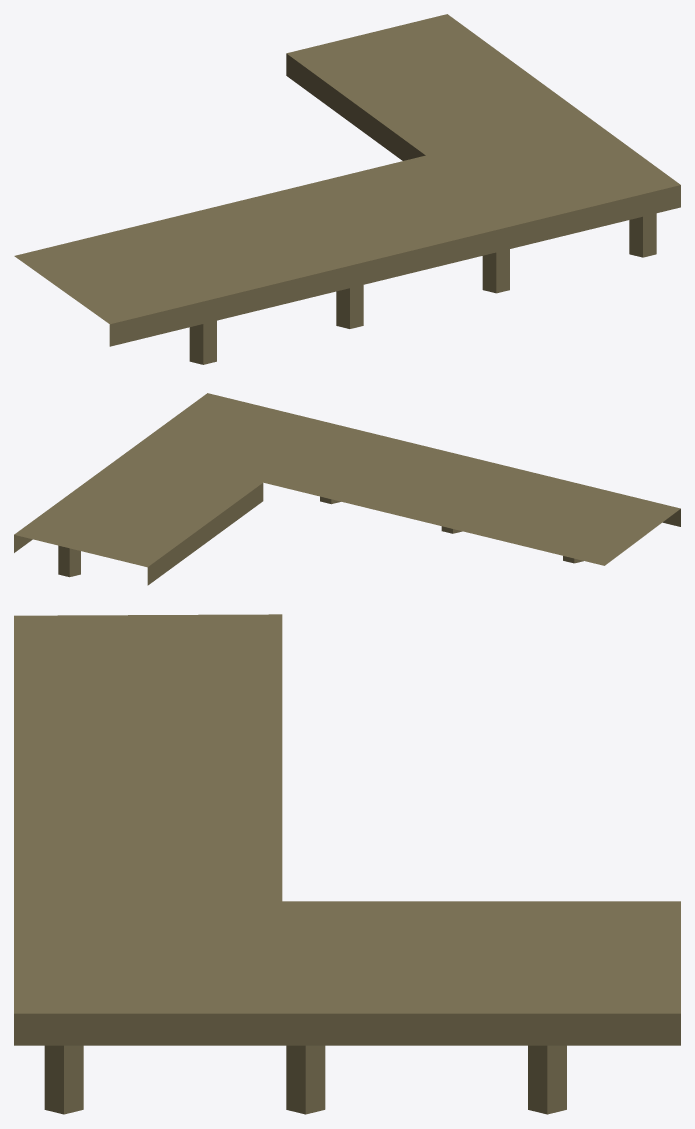
Rendered from overworldBridge_MESH.fbx.
3 views of the same model, one above another, from view 1: azimuth 30°, elevation 25°; view 2: azimuth 150°, elevation 25°; view 3: azimuth 270°, elevation 25° (orthographic). The views are drawn at different scales.
Parts seen in each view (by area): view 1: bridge; view 2: bridge; view 3: bridge.
Boxes of the visible parts, x1,y1,x2,y2 form: bridge: (14,14,680,364); bridge: (14,393,680,585); bridge: (14,614,680,1114).
Size of the model in its own units: 3.91 by 0.4817 by 2.76.
